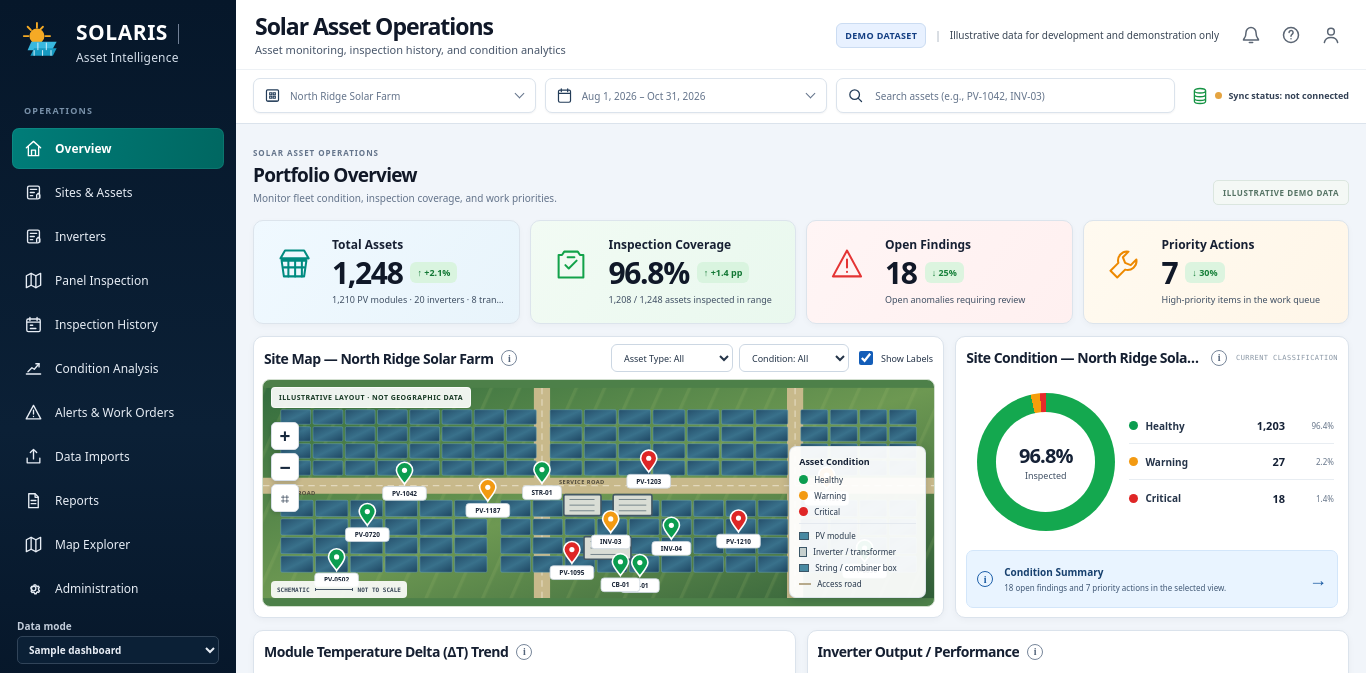
Scenario: SOLARIS overview dashboard › filters the dashboard when the site, date range, and search change
The image size is (1366, 673).
Step 1. Select "South Mesa Solar Park" in the dropdown named "Site" → (407, 96), box [290, 88, 525, 102]
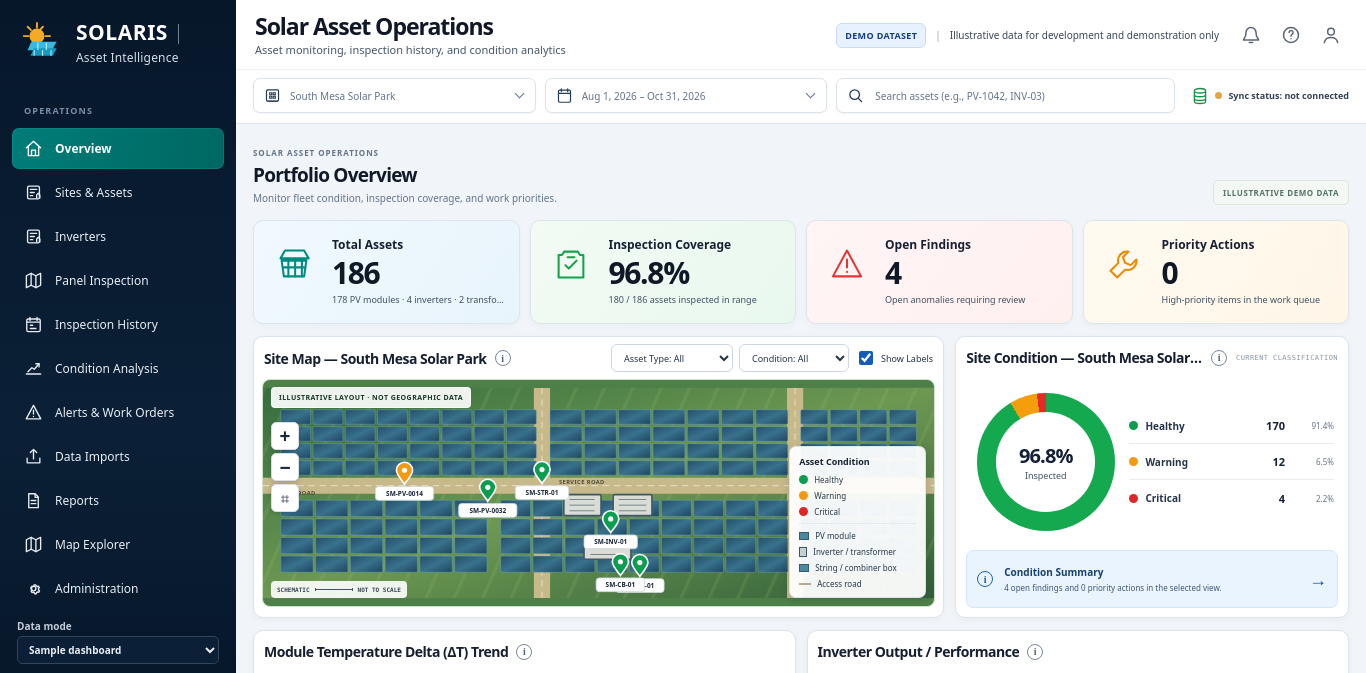
Expected: the element named "Total Assets: 186" is shown, [253, 220, 520, 324]
Expected: the heading "Site Map — South Mesa Solar Park" is shown, [264, 348, 486, 368]
Step 2. Select "North Ridge Solar Farm" in the dropdown named "Site" → (407, 96), box [290, 88, 525, 102]
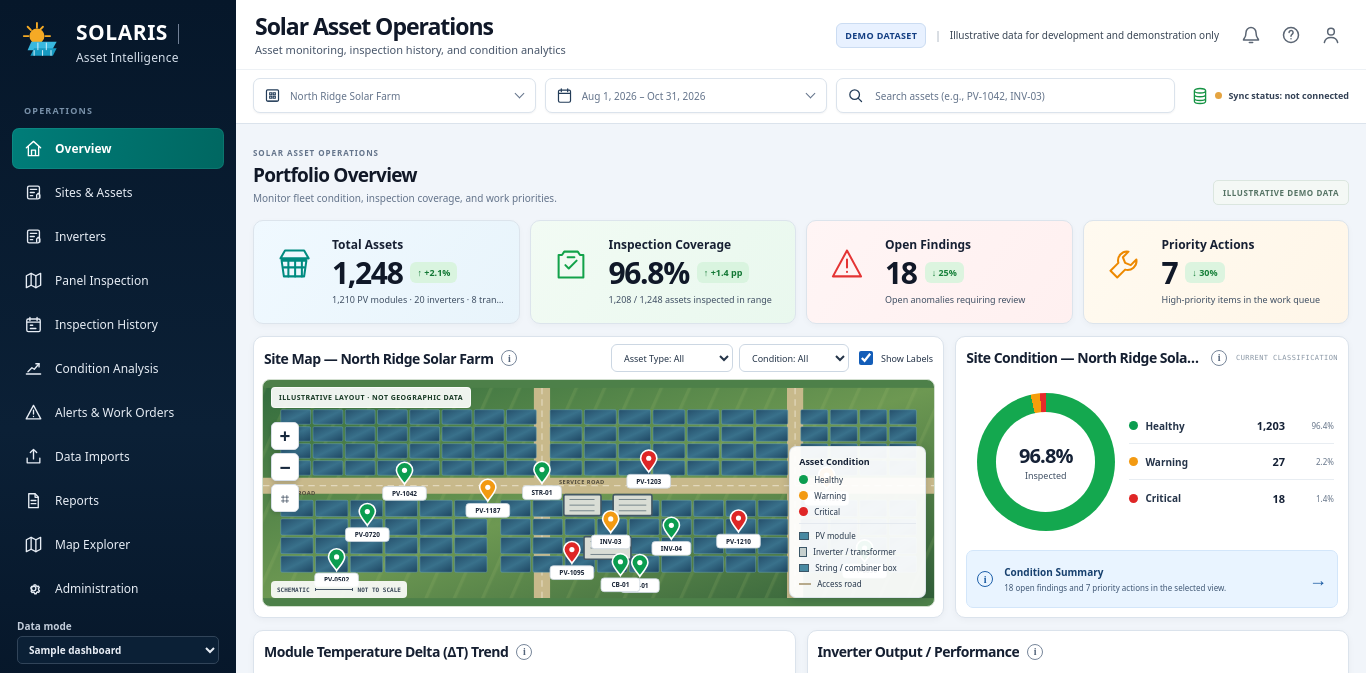
Step 3. Select "Last 30 days" in the dropdown named "Date range" → (699, 96), box [582, 88, 816, 102]
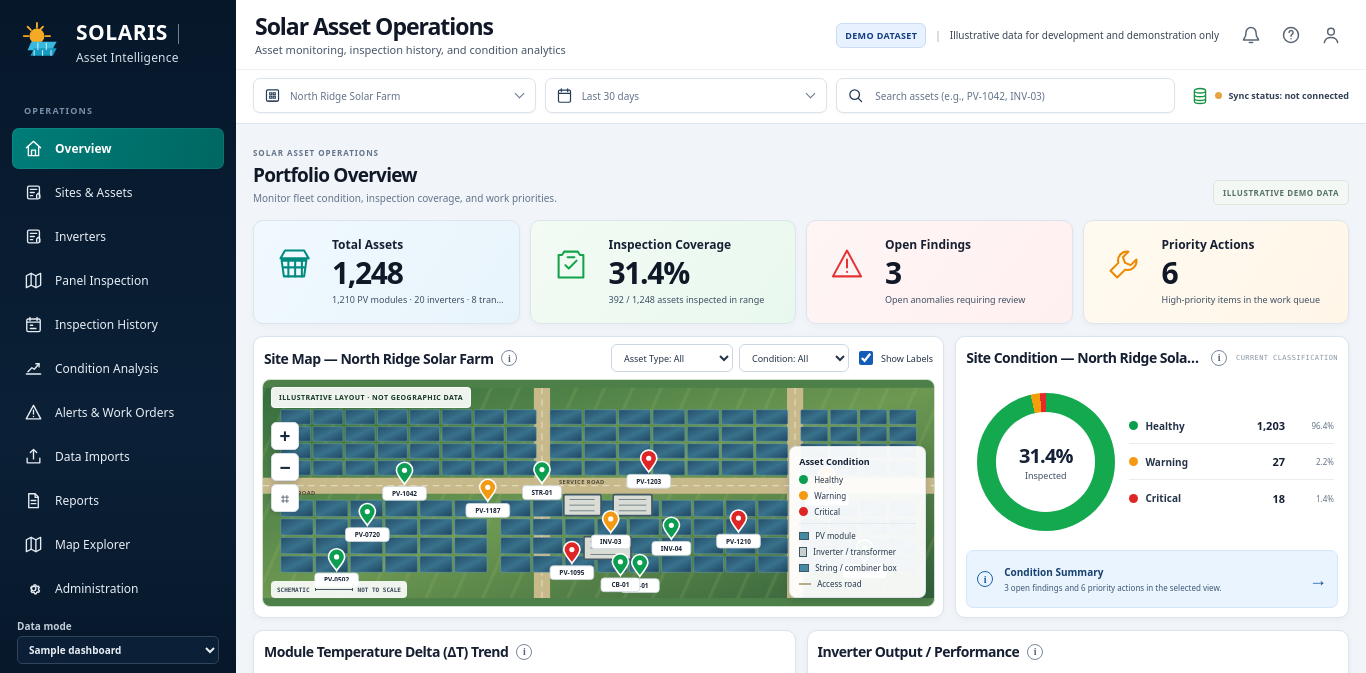
Expected: the element named "Inspection Coverage:" is shown, [530, 220, 796, 324]
Step 4. Type "PV-1203" into the search field labelled "Search assets" → (1019, 96), box [873, 88, 1164, 104]
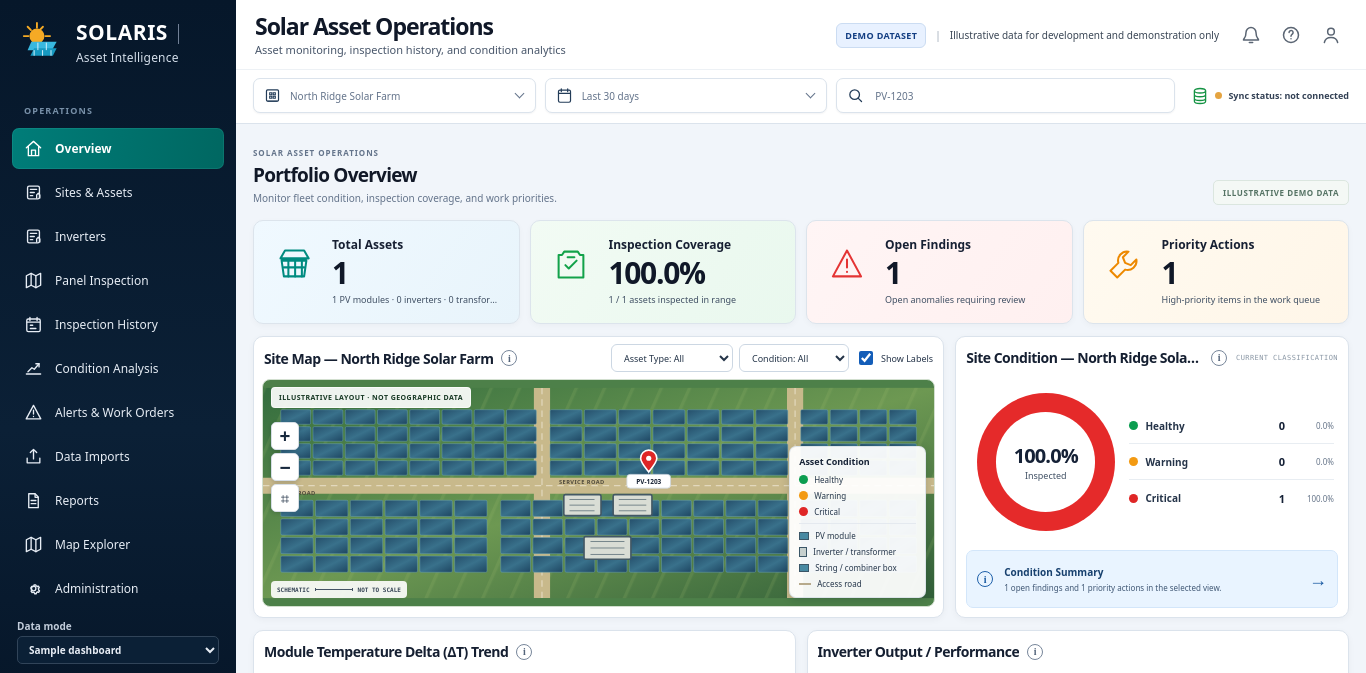
Expected: the element named "Total Assets: 1" is shown, [253, 220, 520, 324]
Expected: the element named "Open Findings: 1" is shown, [806, 220, 1072, 324]
